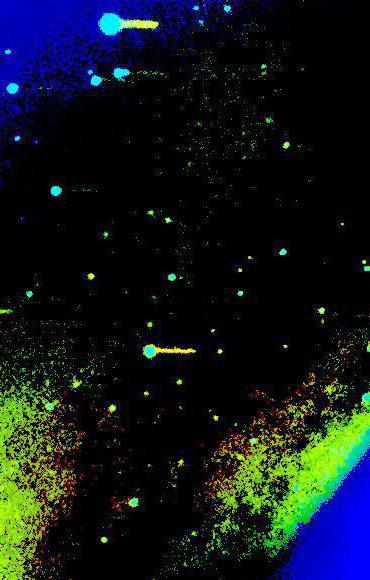star: (76, 260, 106, 290)
